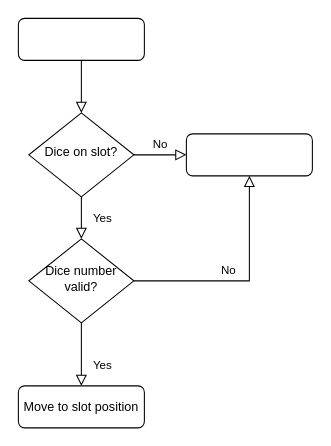
Image size: 331x446. Some labels were removed from this diagram. Here are the shapes that lost their labels. From the top down, the centre of each, then its label:
(x=80, y=38): Dice is dragging
(x=248, y=154): Return to base
